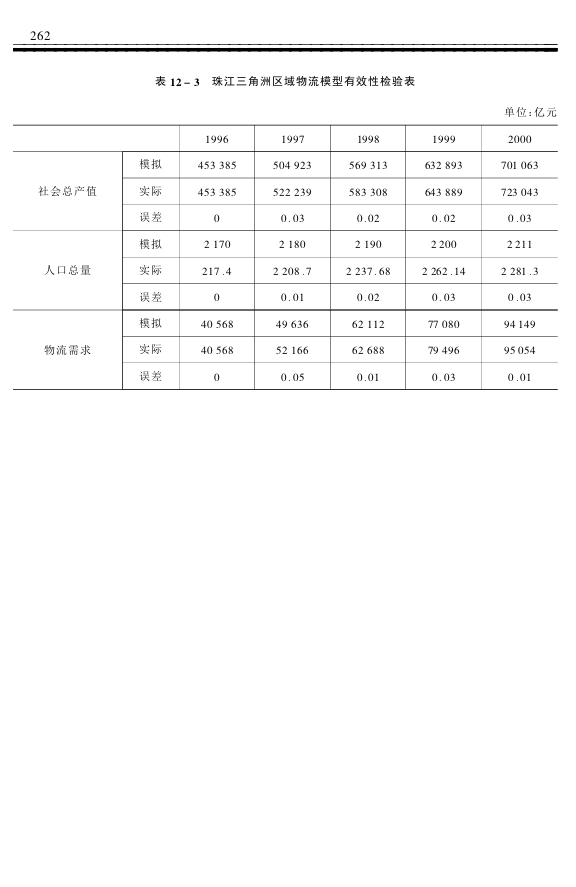table: (12, 124, 558, 390)
